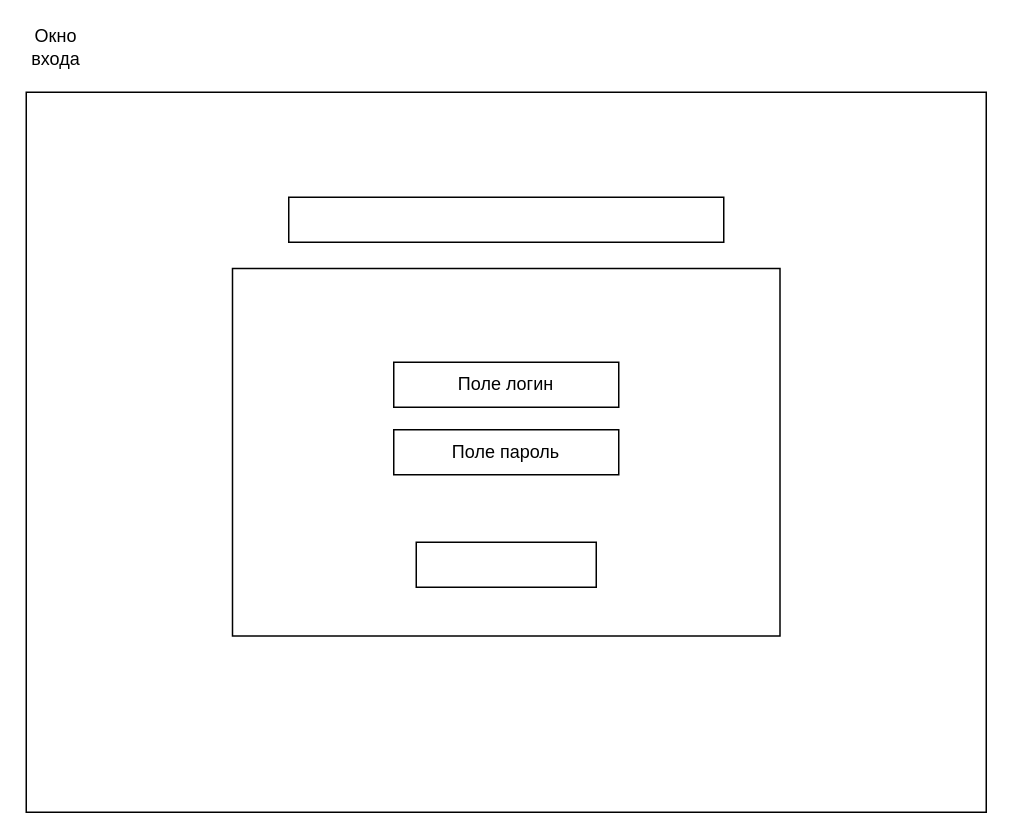
This 1013x839 diagram has some shape labels left out. Here are the shapes that lost their labels. From the top down, the centre of each, then its label:
At point (505, 219): "Название программы".
At point (505, 564): "Кнопка".
